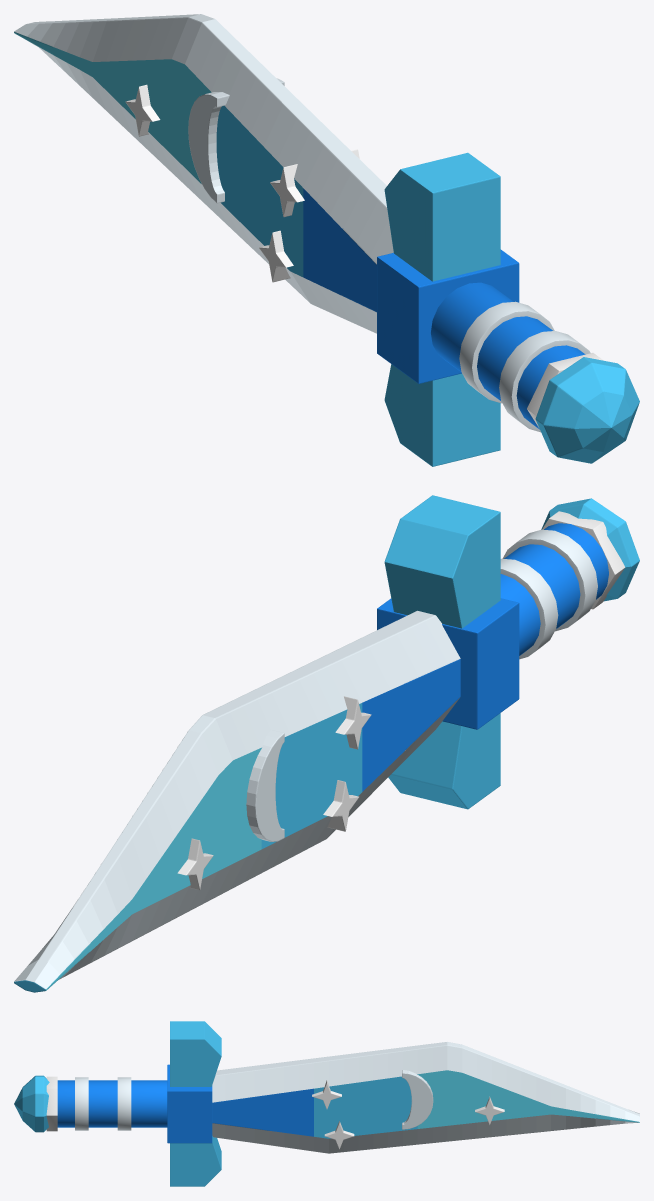
Rendered from Sword_BlueHourShard.glb.
3 views of the same model, one above another, from view 1: azimuth 30°, elevation 25°; view 2: azimuth 150°, elevation 25°; view 3: azimuth 270°, elevation 25° (orthographic). The views are drawn at different scales.
Visible parts, largest first — view 1: Sword_BlueHourShard; view 2: Sword_BlueHourShard; view 3: Sword_BlueHourShard.
Boxes of the visible parts, left/top/right/bottom form: Sword_BlueHourShard: left=14, top=14, right=639, bottom=466; Sword_BlueHourShard: left=14, top=495, right=639, bottom=992; Sword_BlueHourShard: left=14, top=1021, right=639, bottom=1186.
Size of the model in its own units: 0.1 by 0.26 by 1.
1 material, 1 textured.
